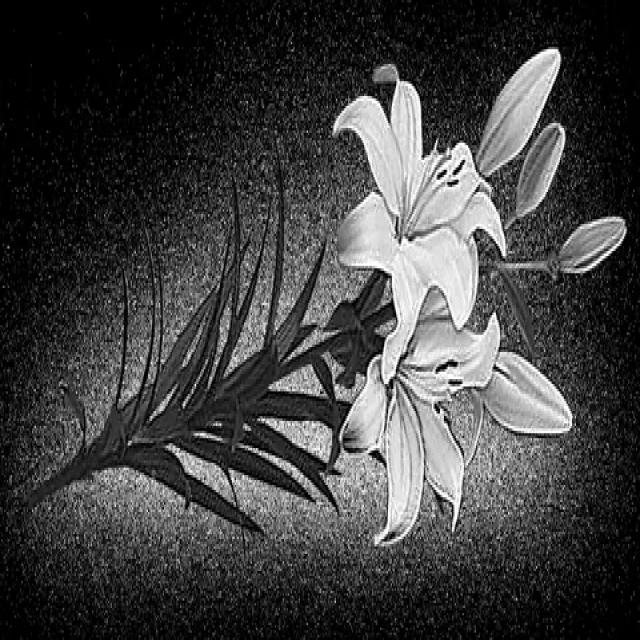lily: (331, 53, 501, 370)
